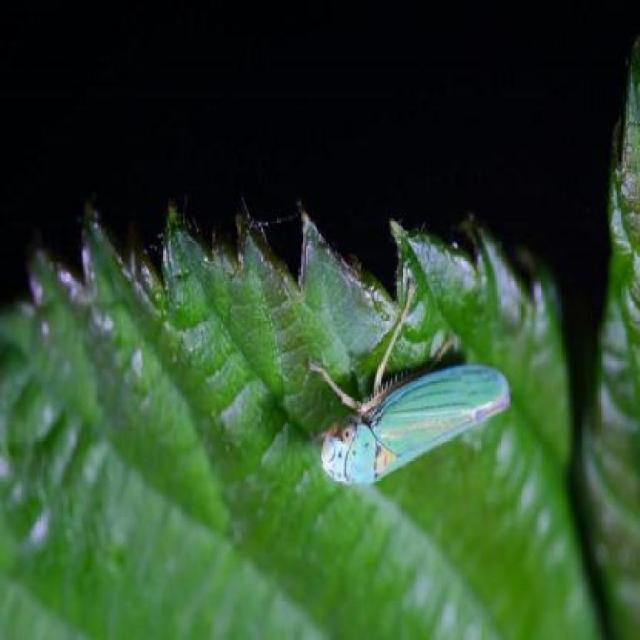green-leafhopper: (321, 329, 514, 491)
